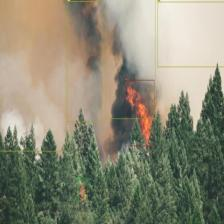fire: (125, 80, 154, 146)
smoke: (0, 0, 66, 151), (106, 0, 156, 119), (157, 1, 224, 67), (67, 1, 102, 122)
